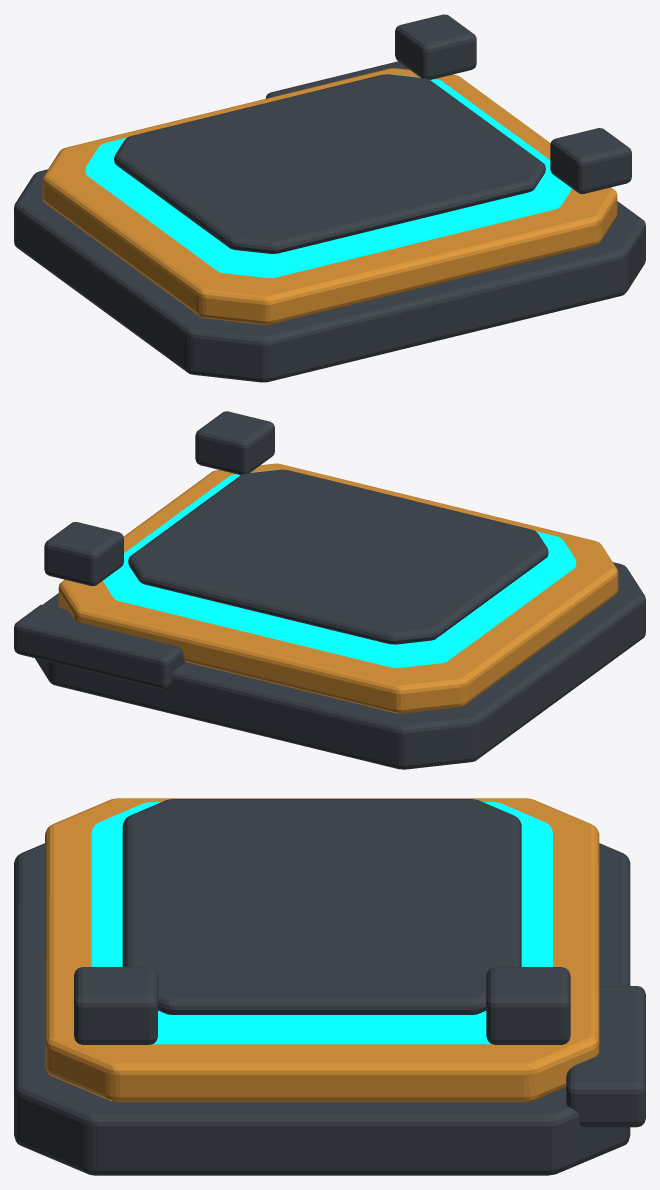
File: SM_RobotCenter_ShopDisplayPad.fbx
3 views of the same model, one above another, from view 1: azimuth 30°, elevation 25°; view 2: azimuth 150°, elevation 25°; view 3: azimuth 270°, elevation 25° (orthographic). The views are drawn at different scales.
Visible parts, largest first — view 1: SM_RobotCenter_ShopDisplayPad.001; view 2: SM_RobotCenter_ShopDisplayPad.001; view 3: SM_RobotCenter_ShopDisplayPad.001.
Part boxes in pixels (<box>): SM_RobotCenter_ShopDisplayPad.001: <box>14,14,645,382</box>; SM_RobotCenter_ShopDisplayPad.001: <box>14,411,645,769</box>; SM_RobotCenter_ShopDisplayPad.001: <box>14,798,645,1175</box>.
Size of the model in its own units: 285 by 318 by 83.
